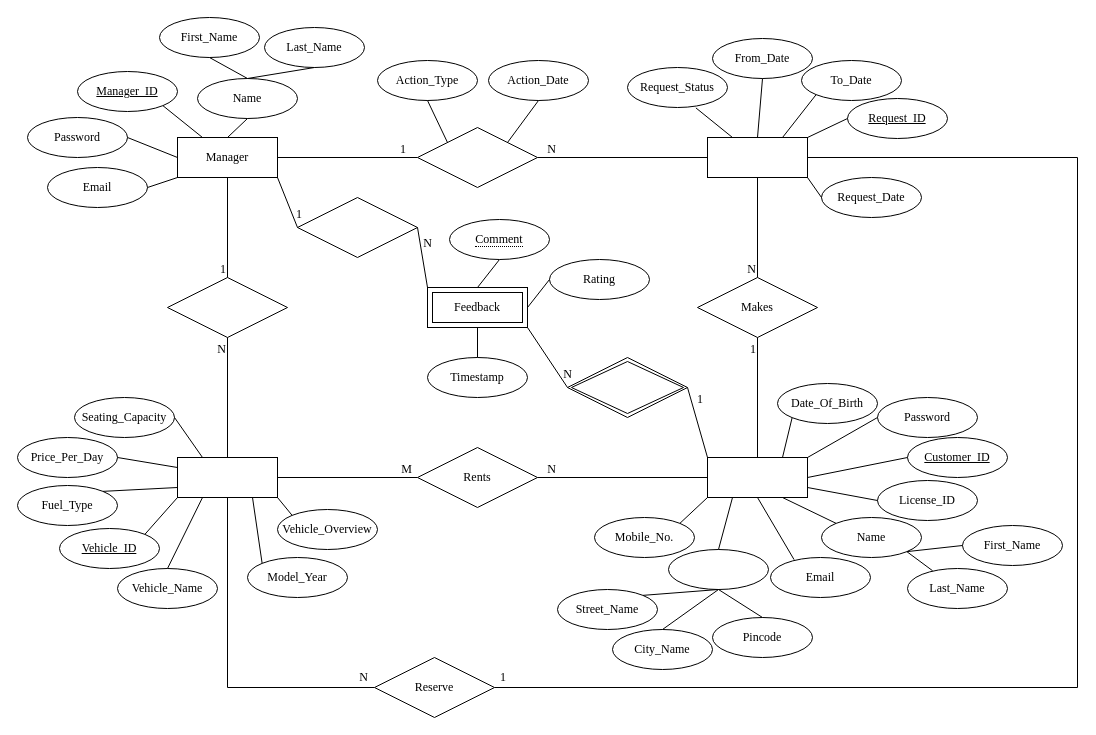
The diagram is 1096 pixels wide and 735 high, and some of its shapes have lost their labels. The box of each missing label's shape, as (x1, y1, x2, y2) in pixels:
Address: (668, 548, 768, 590)
Approve/Reject: (416, 126, 538, 188)
Booking Request: (706, 136, 808, 178)
Customer: (706, 456, 808, 498)
Gives: (566, 356, 688, 418)
Registers: (166, 276, 288, 338)
Vehicle: (176, 456, 278, 498)
Views: (296, 196, 418, 258)
